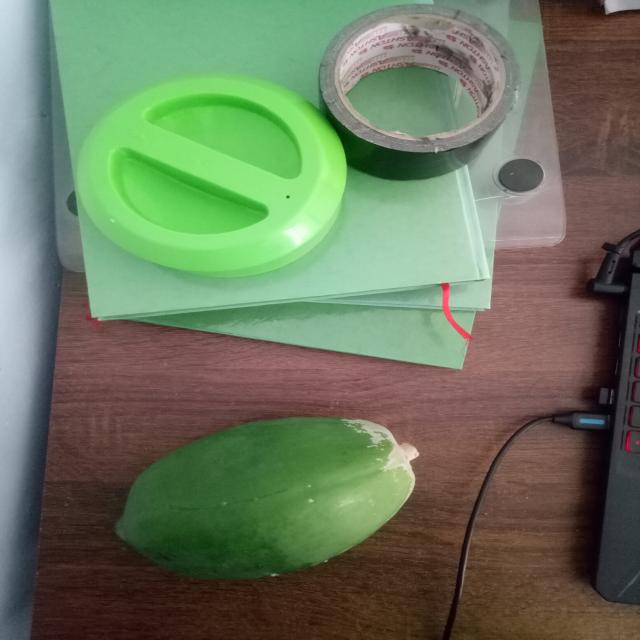Pepaya unrippen: (98, 410, 430, 582)
